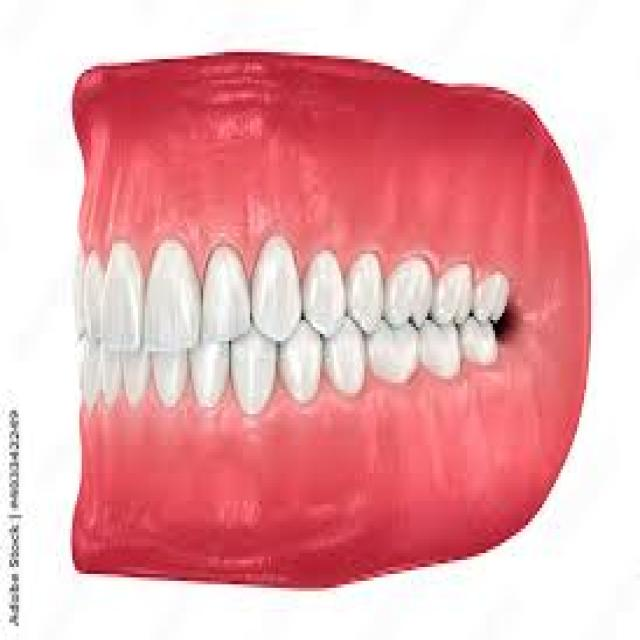tooth: (248, 240, 299, 341), (152, 240, 198, 348), (103, 244, 142, 352), (231, 323, 276, 414), (201, 254, 247, 341), (383, 257, 435, 327), (285, 324, 320, 411), (369, 327, 418, 386), (418, 327, 470, 379), (329, 324, 362, 404), (306, 254, 341, 327), (150, 348, 189, 410), (353, 254, 383, 334), (192, 341, 224, 410), (437, 261, 469, 323), (472, 278, 507, 324), (77, 338, 101, 403), (122, 348, 147, 407), (465, 320, 493, 372), (103, 344, 124, 404), (91, 250, 103, 338), (75, 244, 86, 330)
